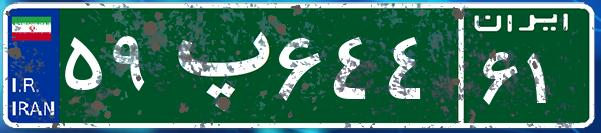1: (525, 38, 570, 115)
4: (385, 28, 445, 110), (330, 28, 385, 110)
5: (57, 26, 110, 107)
6: (273, 28, 330, 110), (475, 38, 525, 113)
9: (110, 28, 158, 105)
پ: (158, 15, 273, 115)
